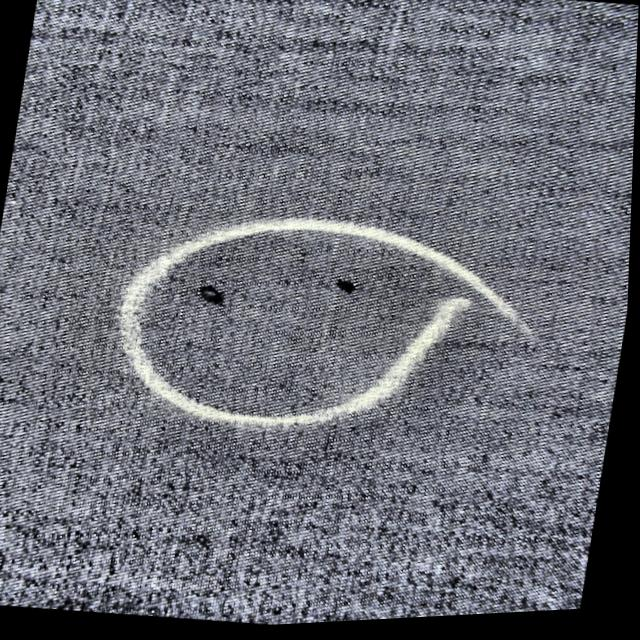Hole: (197, 284, 227, 310), (336, 280, 358, 297)
